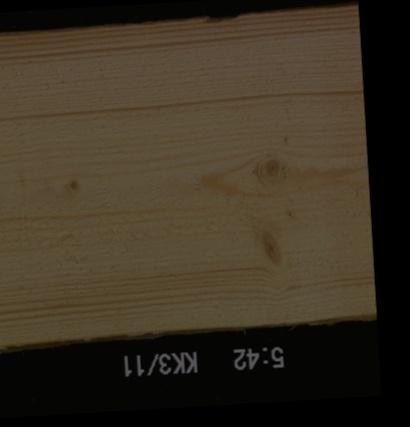small_knot: (66, 177, 78, 191)
sound_knot: (259, 153, 283, 184)
wave: (261, 317, 375, 326)
